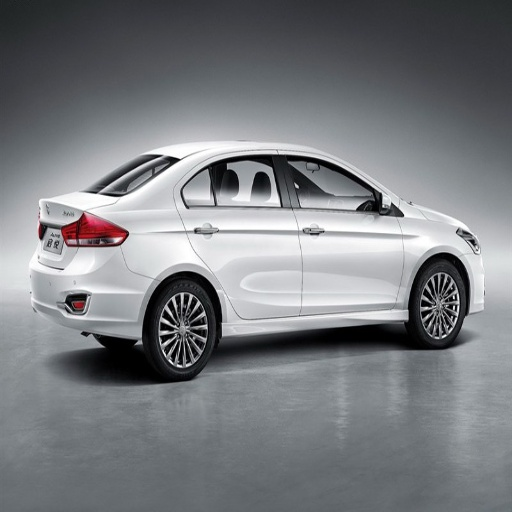back_bumper: (28, 246, 154, 336)
back_right_door: (178, 152, 300, 322)
front_right_door: (282, 153, 403, 315)
